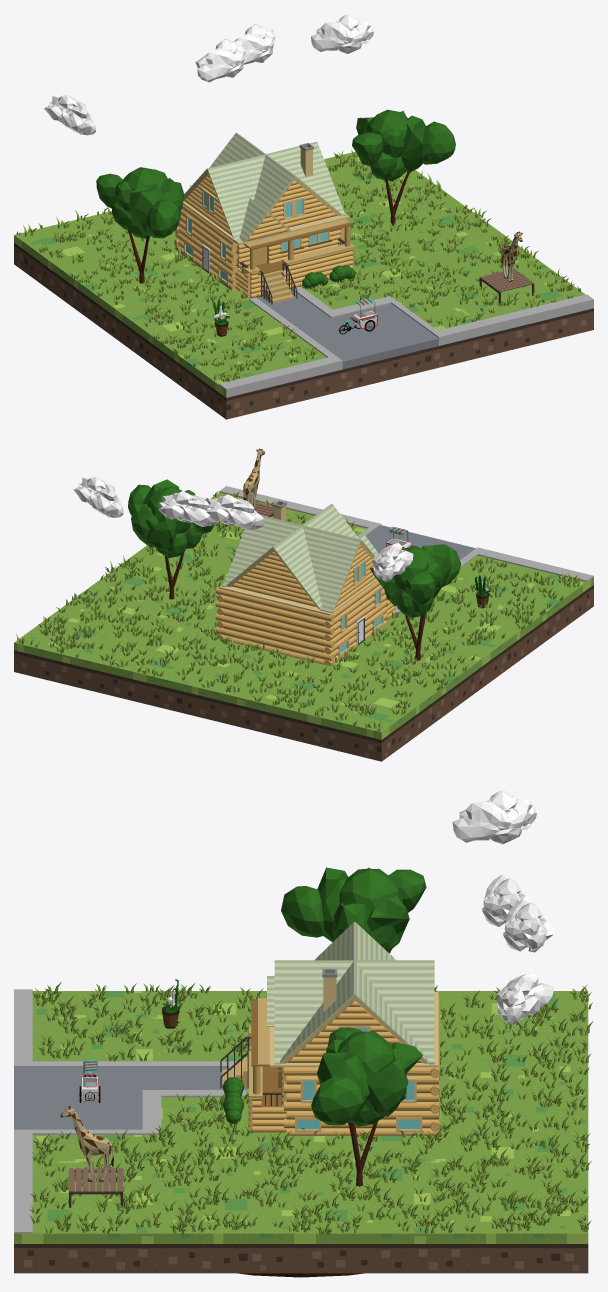
3 renders of one model, top to bottom at view 1: azimuth 30°, elevation 25°; view 2: azimuth 150°, elevation 25°; view 3: azimuth 270°, elevation 25°, orthographic. The views are drawn at different scales.
Visible parts, largest first — view 1: Cube.006, Cube.1516, Circle.012_Grass_0.192, Cube.007, tree, tree.001, Cube.009, VEHICLES_SNOWBAL_BIKE, ANIMAL_JIRAFA; view 2: Cube.006, Cube.1516, Circle.012_Grass_0.192, Cube.007, tree.001, tree, ANIMAL_JIRAFA; view 3: Cube.006, Circle.012_Grass_0.192, Cube.1516, tree, Cube.007, tree.001, Cube.009, ANIMAL_JIRAFA, VEHICLES_SNOWBAL_BIKE.
Boxes of the visible parts, left/top/right/bottom form: Cube.006: left=14, top=151, right=593, bottom=419; Cube.1516: left=174, top=132, right=355, bottom=304; Circle.012_Grass_0.192: left=16, top=149, right=580, bottom=381; Cube.007: left=44, top=14, right=373, bottom=135; tree: left=352, top=109, right=455, bottom=225; tree.001: left=96, top=167, right=184, bottom=283; Cube.009: left=479, top=268, right=534, bottom=303; VEHICLES_SNOWBAL_BIKE: left=338, top=297, right=378, bottom=334; ANIMAL_JIRAFA: left=501, top=231, right=522, bottom=281; Cube.006: left=14, top=486, right=593, bottom=761; Cube.1516: left=215, top=500, right=395, bottom=665; Circle.012_Grass_0.192: left=16, top=491, right=580, bottom=731; Cube.007: left=73, top=476, right=413, bottom=581; tree.001: left=370, top=544, right=460, bottom=660; tree: left=128, top=479, right=214, bottom=599; ANIMAL_JIRAFA: left=243, top=448, right=265, bottom=509; Cube.006: left=14, top=989, right=588, bottom=1273; Circle.012_Grass_0.192: left=29, top=982, right=593, bottom=1234; Cube.1516: left=220, top=922, right=439, bottom=1135; tree: left=311, top=1027, right=423, bottom=1186; Cube.007: left=452, top=790, right=553, bottom=1024; tree.001: left=281, top=867, right=426, bottom=953; Cube.009: left=69, top=1168, right=122, bottom=1207; ANIMAL_JIRAFA: left=60, top=1106, right=113, bottom=1181; VEHICLES_SNOWBAL_BIKE: left=79, top=1059, right=100, bottom=1102.
Bounding box in the file's own units: 4071 × 2242 × 4040.
44 materials, 4 textured.
